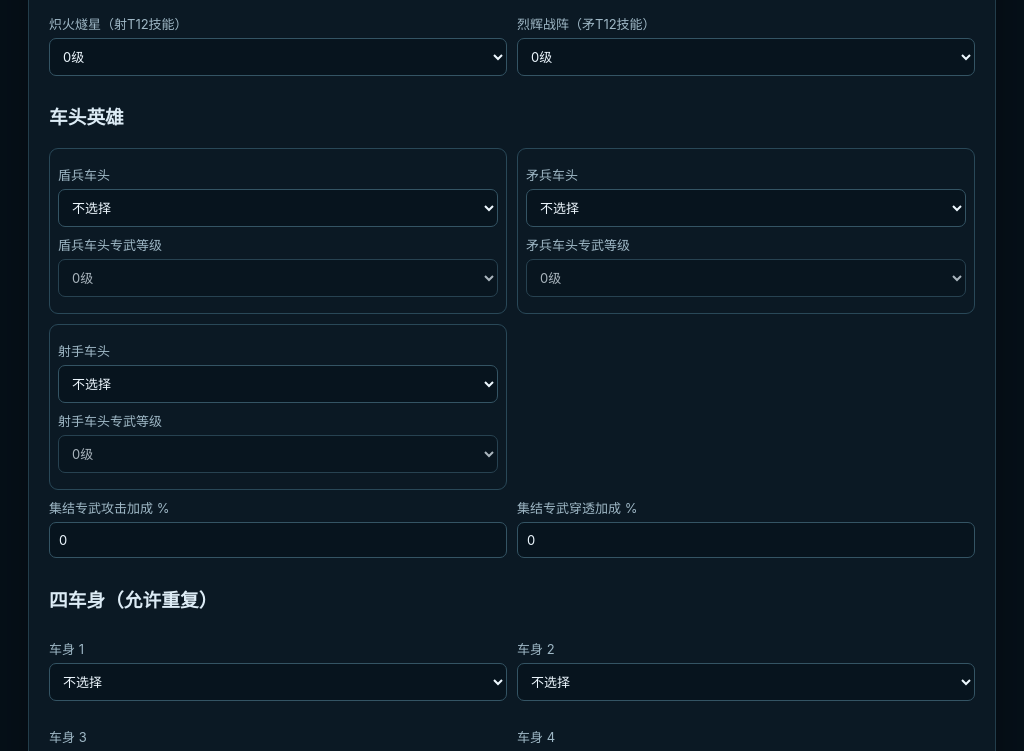
计算器UI有限选项与技能说明 › 实际三个车头各自拥有默认0级、选英雄后可用的专武等级
(page scrolled)
Expected: the dropdown labelled "射手车头专武等级" shows "0级", left=58, top=435, right=498, bottom=473
Expected: the dropdown labelled "射手车头专武等级" is disabled, left=58, top=435, right=498, bottom=473
Select "布兰琪（S10）" in the dropdown labelled "射手车头": (278, 384) left=58, top=365, right=498, bottom=403
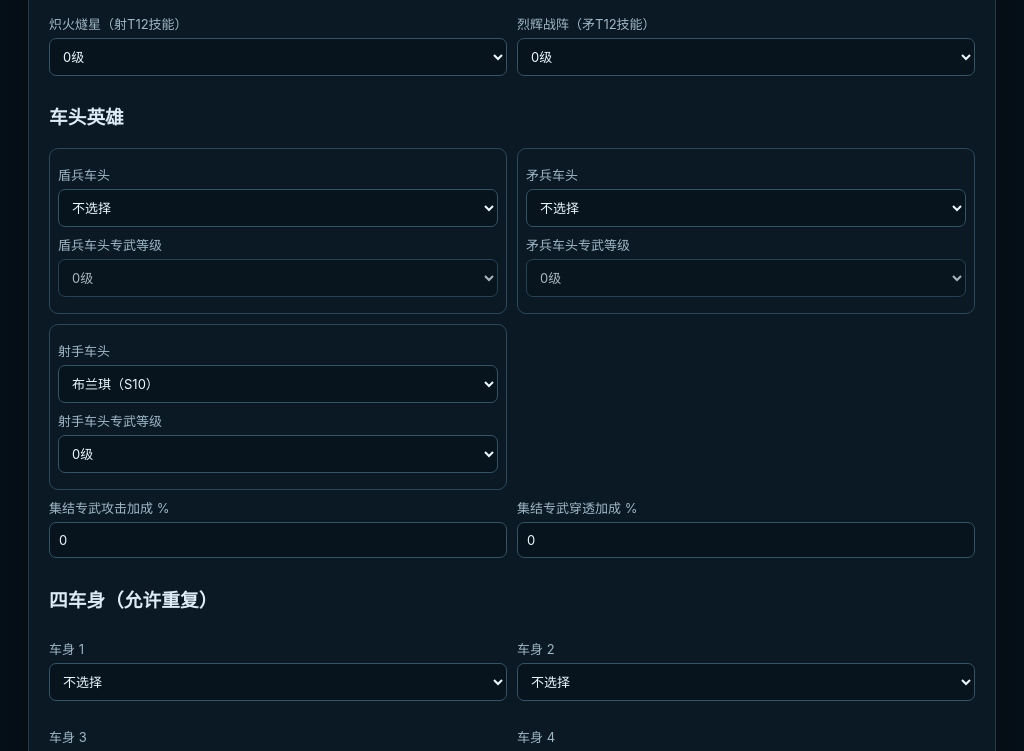
Expected: the dropdown labelled "射手车头专武等级" is enabled, left=58, top=435, right=498, bottom=473
